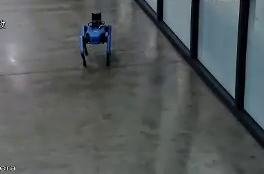robot dog: (75, 6, 123, 71)
